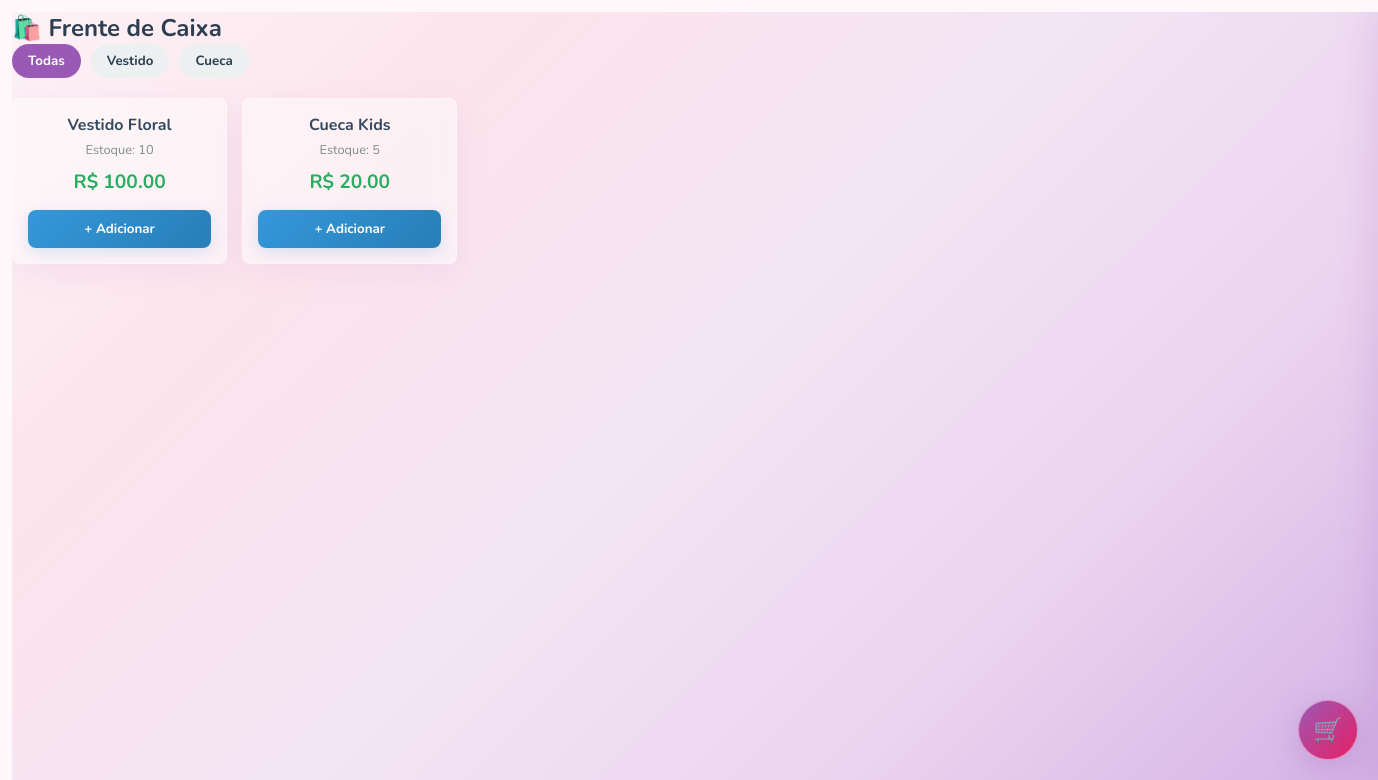
Test case: Componente PDV - Testes de Comportamento › Deve filtrar os produtos ao clicar em uma categoria
Expected: the heading "Vestido Floral" is shown, [67,114,172,136]
Expected: the heading "Cueca Kids" is shown, [309,114,391,136]
Click the button "vestido" at (130, 61), box [91,44,169,78]
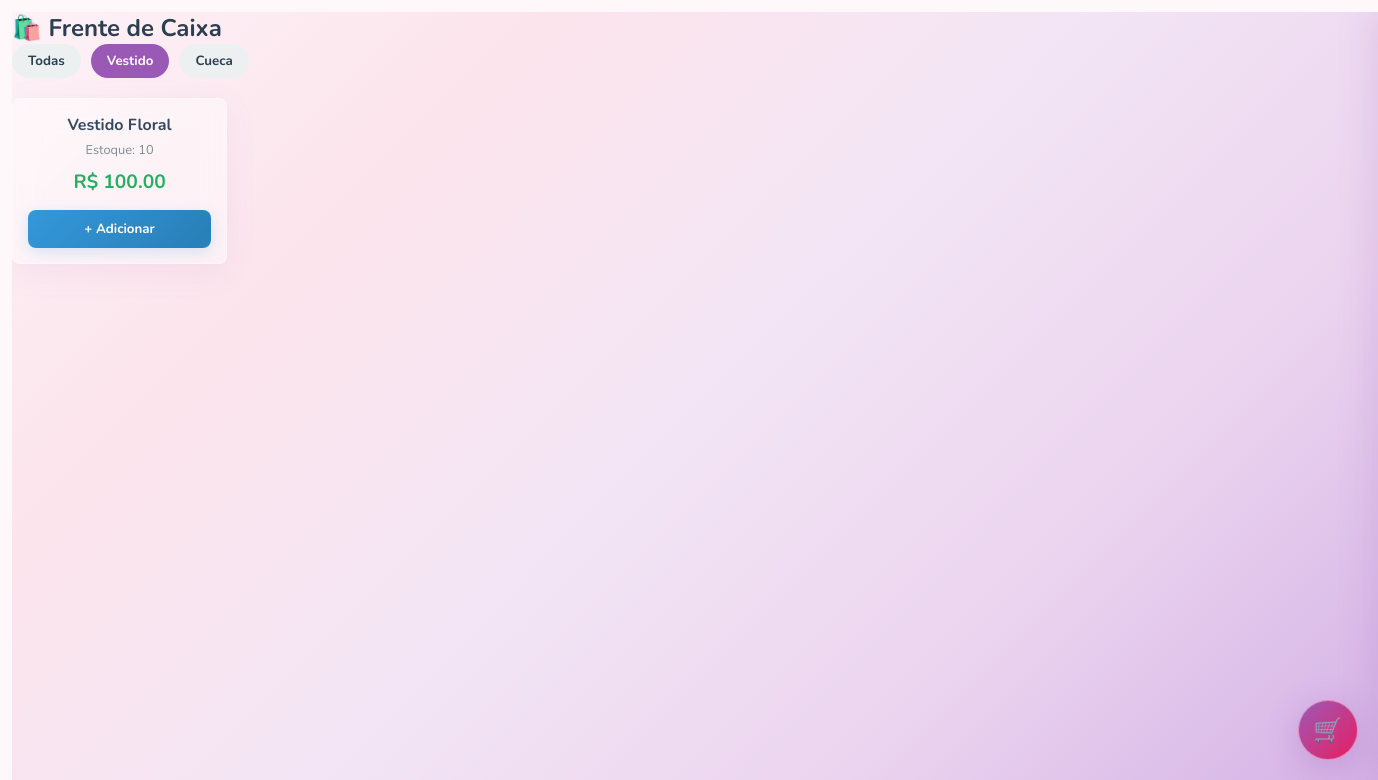
Expected: the heading "Vestido Floral" is shown, [67,114,172,136]
Now the heading "Cueca Kids" is gone
